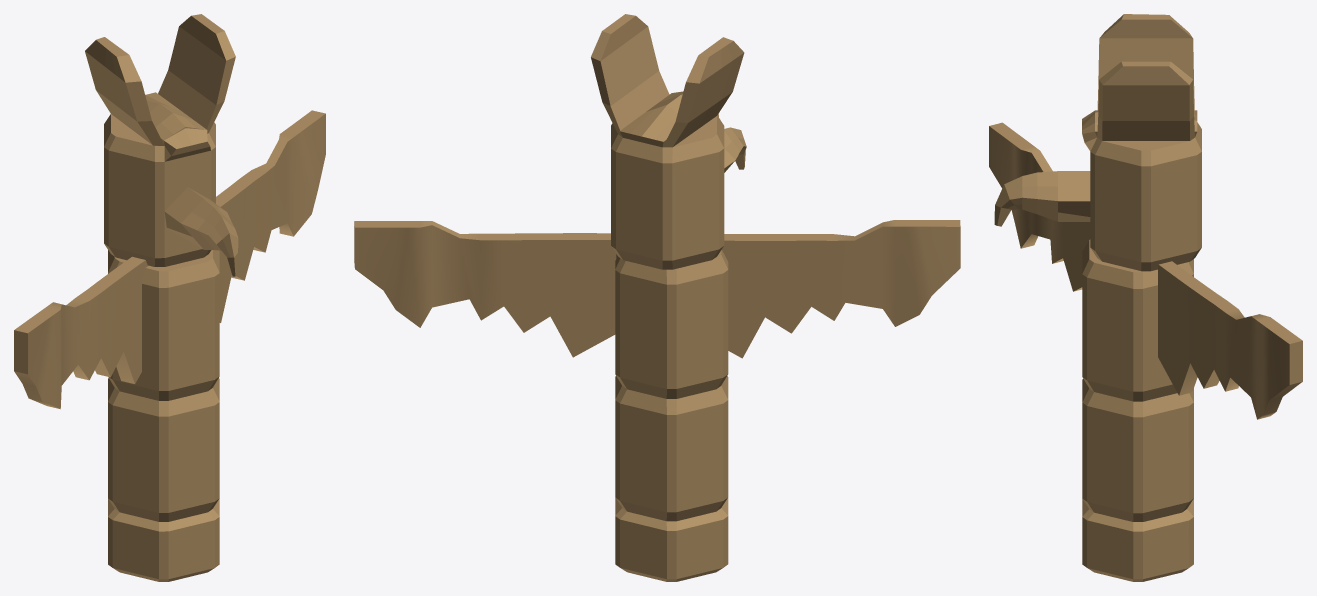
File: Totoem_Wooden.fbx
3 renders of one model, left to right at view 1: azimuth 30°, elevation 25°; view 2: azimuth 150°, elevation 25°; view 3: azimuth 270°, elevation 25°, orthographic.
Visible parts, largest first — view 1: wooden_totem2; view 2: wooden_totem2; view 3: wooden_totem2.
Boxes of the visible parts, bbox=[...] form: wooden_totem2: bbox=[14, 14, 325, 581]; wooden_totem2: bbox=[354, 14, 960, 581]; wooden_totem2: bbox=[989, 14, 1302, 581].
Bounding box in the file's own units: 11.92 × 13.01 × 7.13.
